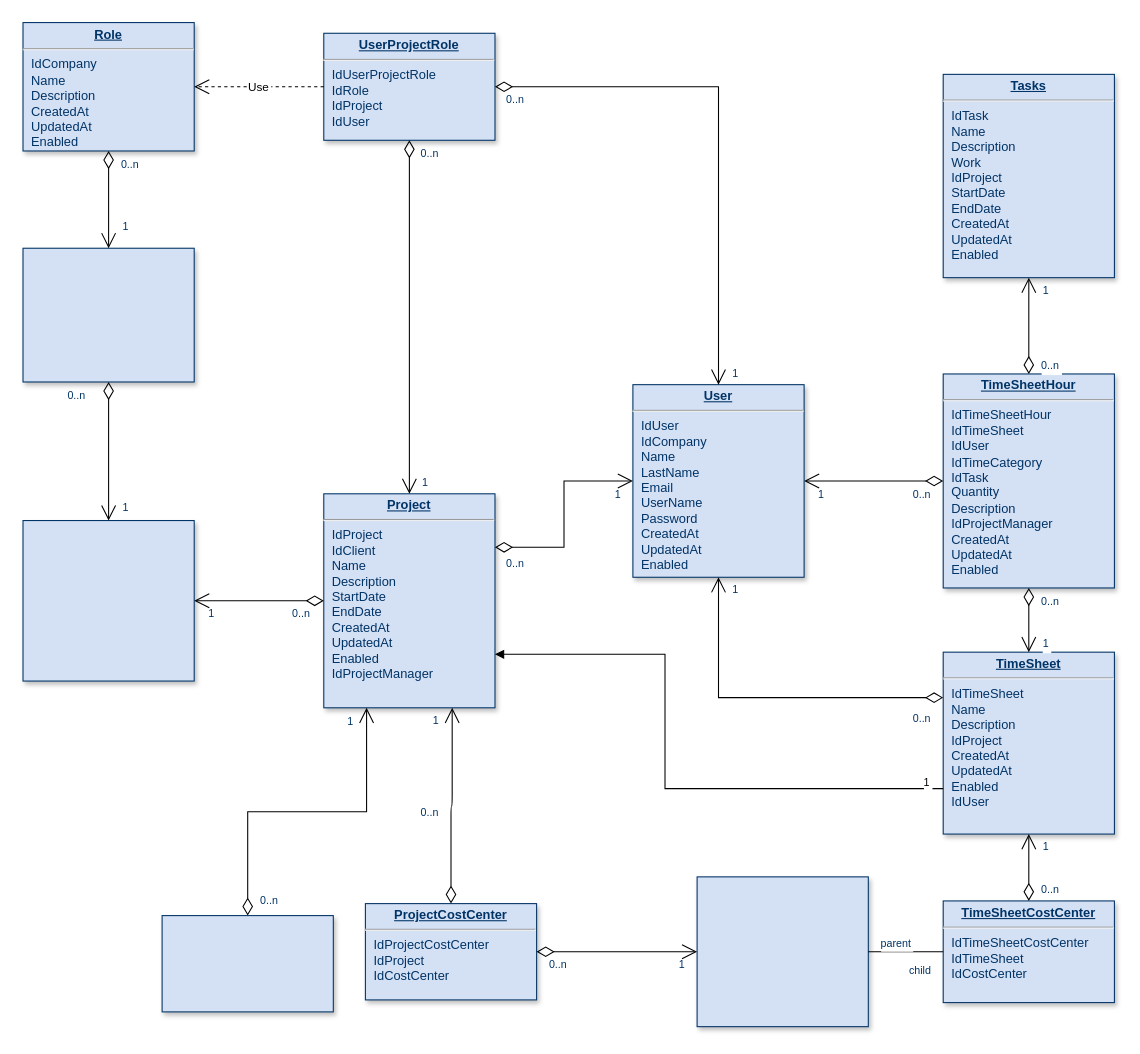
Some shapes in this 1140 by 1054 pixel diagram are drawn without their labels. Here are the shapes that lost their labels. From the top down, the centre of each, then its label:
At pixel 109 316: "Company Name Description CreatedAt UpdatedAt Enabled".
At pixel 109 602: "Client IdClient IdCompany Name Description CreatedAt UpdatedAt Enabled".
At pixel 248 964: "ProjectDocument IdProjectDocument IdProject IdDocument".
At pixel 783 953: "CostCenter IdCostCenter Name Description CreatedAt UpdatedAt Enabled".
